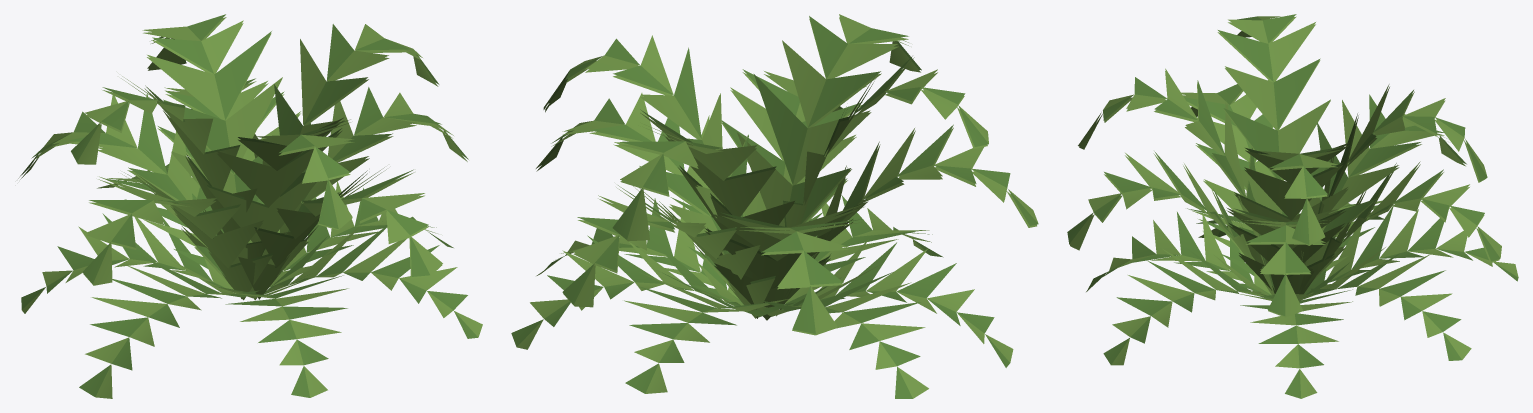
The model's file is fern.glb.
3 renders of one model, left to right at view 1: azimuth 30°, elevation 25°; view 2: azimuth 150°, elevation 25°; view 3: azimuth 270°, elevation 25°, orthographic. The views are drawn at different scales.
Visible parts, largest first — view 1: Fern; view 2: Fern; view 3: Fern.
Boxes of the visible parts, left/top/right/bottom form: Fern: left=18, top=14, right=482, bottom=398; Fern: left=511, top=14, right=1038, bottom=398; Fern: left=1067, top=14, right=1518, bottom=398.
Bounding box in the file's own units: 2 × 1.22 × 2.
